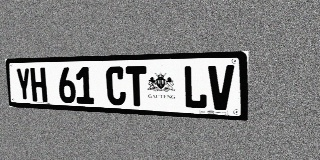1: (75, 67, 94, 104)
6: (58, 67, 76, 103)
C: (106, 66, 126, 106)
H: (30, 67, 48, 102)
L: (183, 65, 207, 109)
T: (126, 66, 147, 107)
V: (208, 65, 234, 111)
Y: (15, 68, 32, 101)
